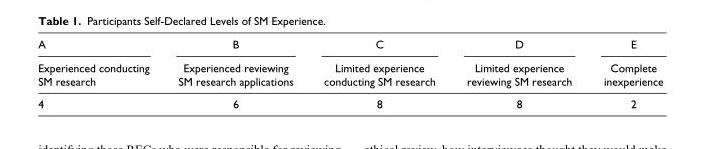table: (37, 37, 662, 110)
table column: (163, 37, 307, 110), (307, 37, 450, 110), (450, 37, 587, 110), (37, 37, 163, 110), (587, 37, 662, 110)
table column header: (37, 37, 662, 92)
table row: (37, 55, 662, 92), (37, 37, 662, 55), (37, 92, 662, 110)
table spanning cell: (163, 37, 307, 92), (307, 37, 450, 92), (450, 37, 587, 92), (37, 37, 163, 92), (587, 37, 662, 92)
